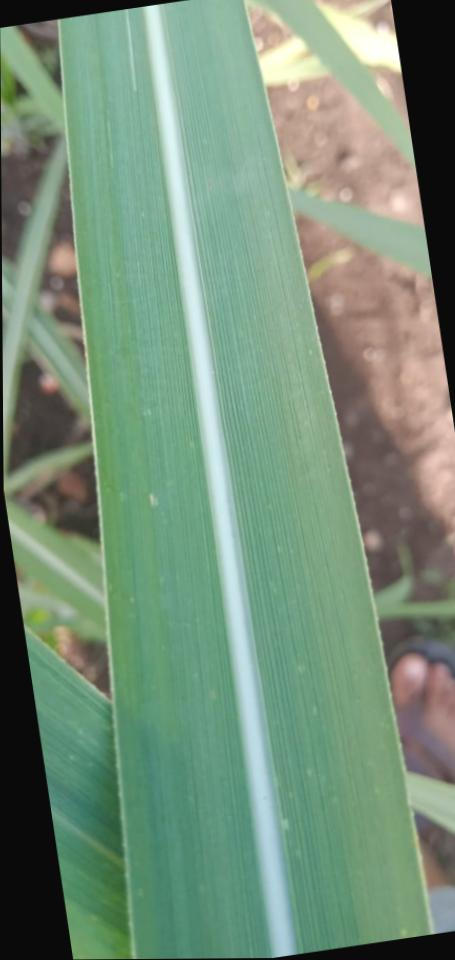Healthy: (59, 0, 430, 959), (26, 631, 130, 960)
